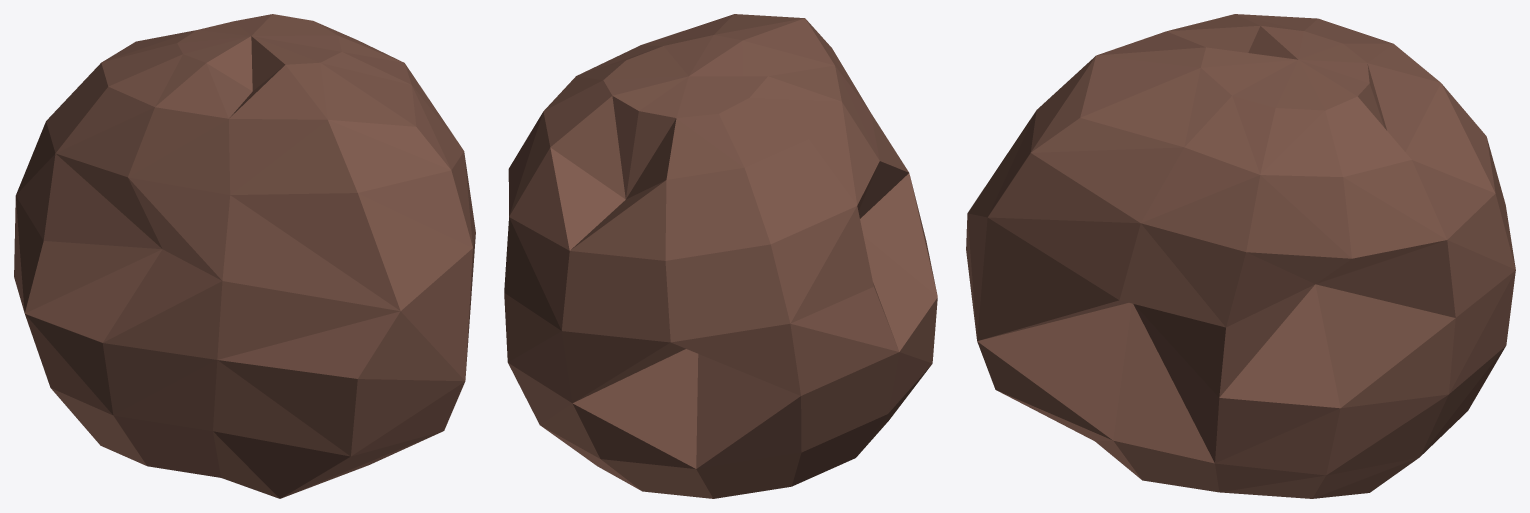
Rendered from modelRock.fbx.
The picture shows the model from 3 angles, left to right: view 1: azimuth 30°, elevation 25°; view 2: azimuth 150°, elevation 25°; view 3: azimuth 270°, elevation 25°; orthographic projection. The views are drawn at different scales.
Visible parts, largest first — view 1: mesh_1475181628; view 2: mesh_1475181628; view 3: mesh_1475181628.
Boxes of the visible parts, x1,y1,x2,y2 form: mesh_1475181628: [14, 14, 475, 498]; mesh_1475181628: [504, 14, 937, 498]; mesh_1475181628: [966, 14, 1515, 498].
Bounding box in the file's own units: 107 × 108 × 128.
